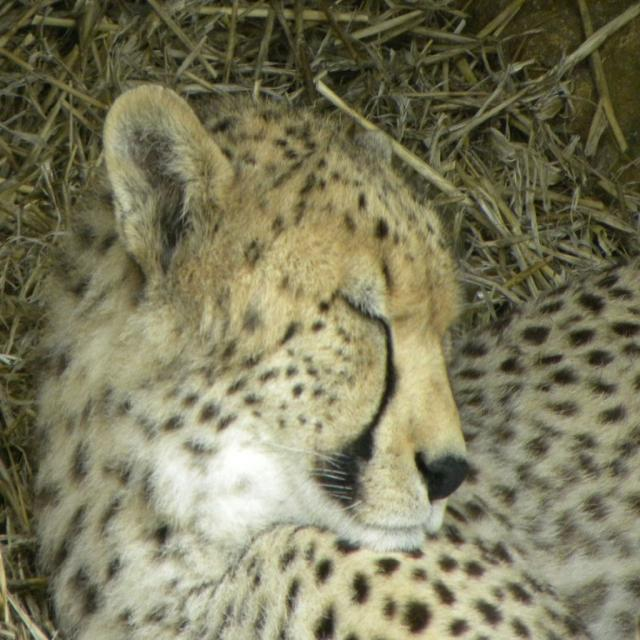Cheetah: (31, 81, 640, 640)
